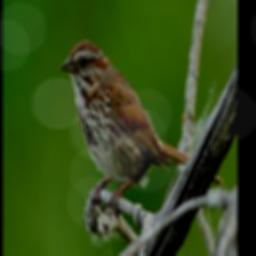Sparrow: (58, 37, 224, 220)
